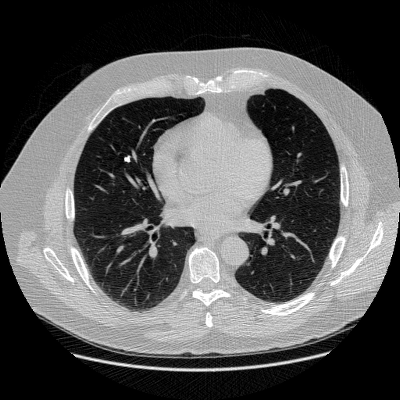nodule: (125, 157, 129, 161)
